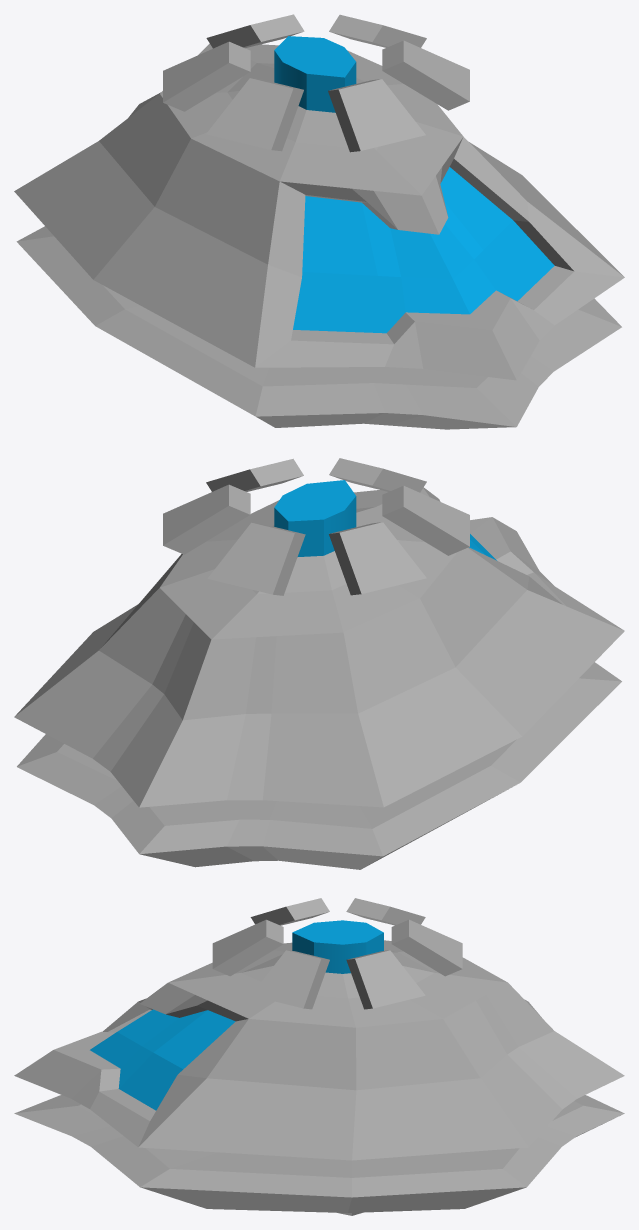
File: Body_Regen.fbx
The picture shows the model from 3 angles, top to bottom: view 1: azimuth 30°, elevation 25°; view 2: azimuth 150°, elevation 25°; view 3: azimuth 270°, elevation 25°; orthographic projection. The views are drawn at different scales.
Parts seen in each view (by area): view 1: Body_Regen, pCube8, pCube10, pCube12, pCube9, pCube7, pCube11; view 2: Body_Regen, pCube7, pCube9, pCube10, pCube11, pCube8, pCube12; view 3: Body_Regen, pCube11, pCube12, pCube8, pCube7, pCube9, pCube10.
Boxes of the visible parts, left/top/right/bottom form: Body_Regen: left=14, top=36, right=624, bottom=429; pCube8: left=328, top=79, right=425, bottom=152; pCube10: left=206, top=78, right=303, bottom=151; pCube12: left=382, top=40, right=469, bottom=110; pCube9: left=163, top=41, right=250, bottom=111; pCube7: left=206, top=14, right=304, bottom=48; pCube11: left=329, top=14, right=426, bottom=47; Body_Regen: left=14, top=480, right=624, bottom=869; pCube7: left=207, top=522, right=305, bottom=595; pCube9: left=329, top=522, right=426, bottom=595; pCube10: left=382, top=485, right=469, bottom=555; pCube11: left=163, top=484, right=250, bottom=554; pCube8: left=329, top=458, right=426, bottom=492; pCube12: left=206, top=458, right=303, bottom=491; Body_Regen: left=14, top=920, right=624, bottom=1215; pCube11: left=346, top=950, right=425, bottom=1009; pCube12: left=251, top=950, right=329, bottom=1009; pCube8: left=212, top=919, right=283, bottom=976; pCube7: left=391, top=919, right=462, bottom=976; pCube9: left=346, top=898, right=425, bottom=925; pCube10: left=250, top=898, right=329, bottom=925.
Size of the model in its own units: 1.23 by 0.9141 by 1.87.
